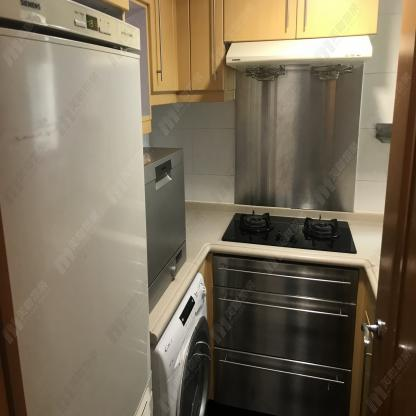Cupboard: (211, 254, 359, 415), (146, 0, 382, 89), (149, 0, 224, 105)
Dish Washer: (144, 144, 188, 313)
Exhaust Hood: (224, 33, 377, 81), (226, 34, 373, 82)
Fridge: (0, 1, 154, 416), (1, 0, 151, 416)
Stove: (208, 207, 366, 260), (226, 212, 355, 253)
Washing Machine: (151, 270, 212, 416)
